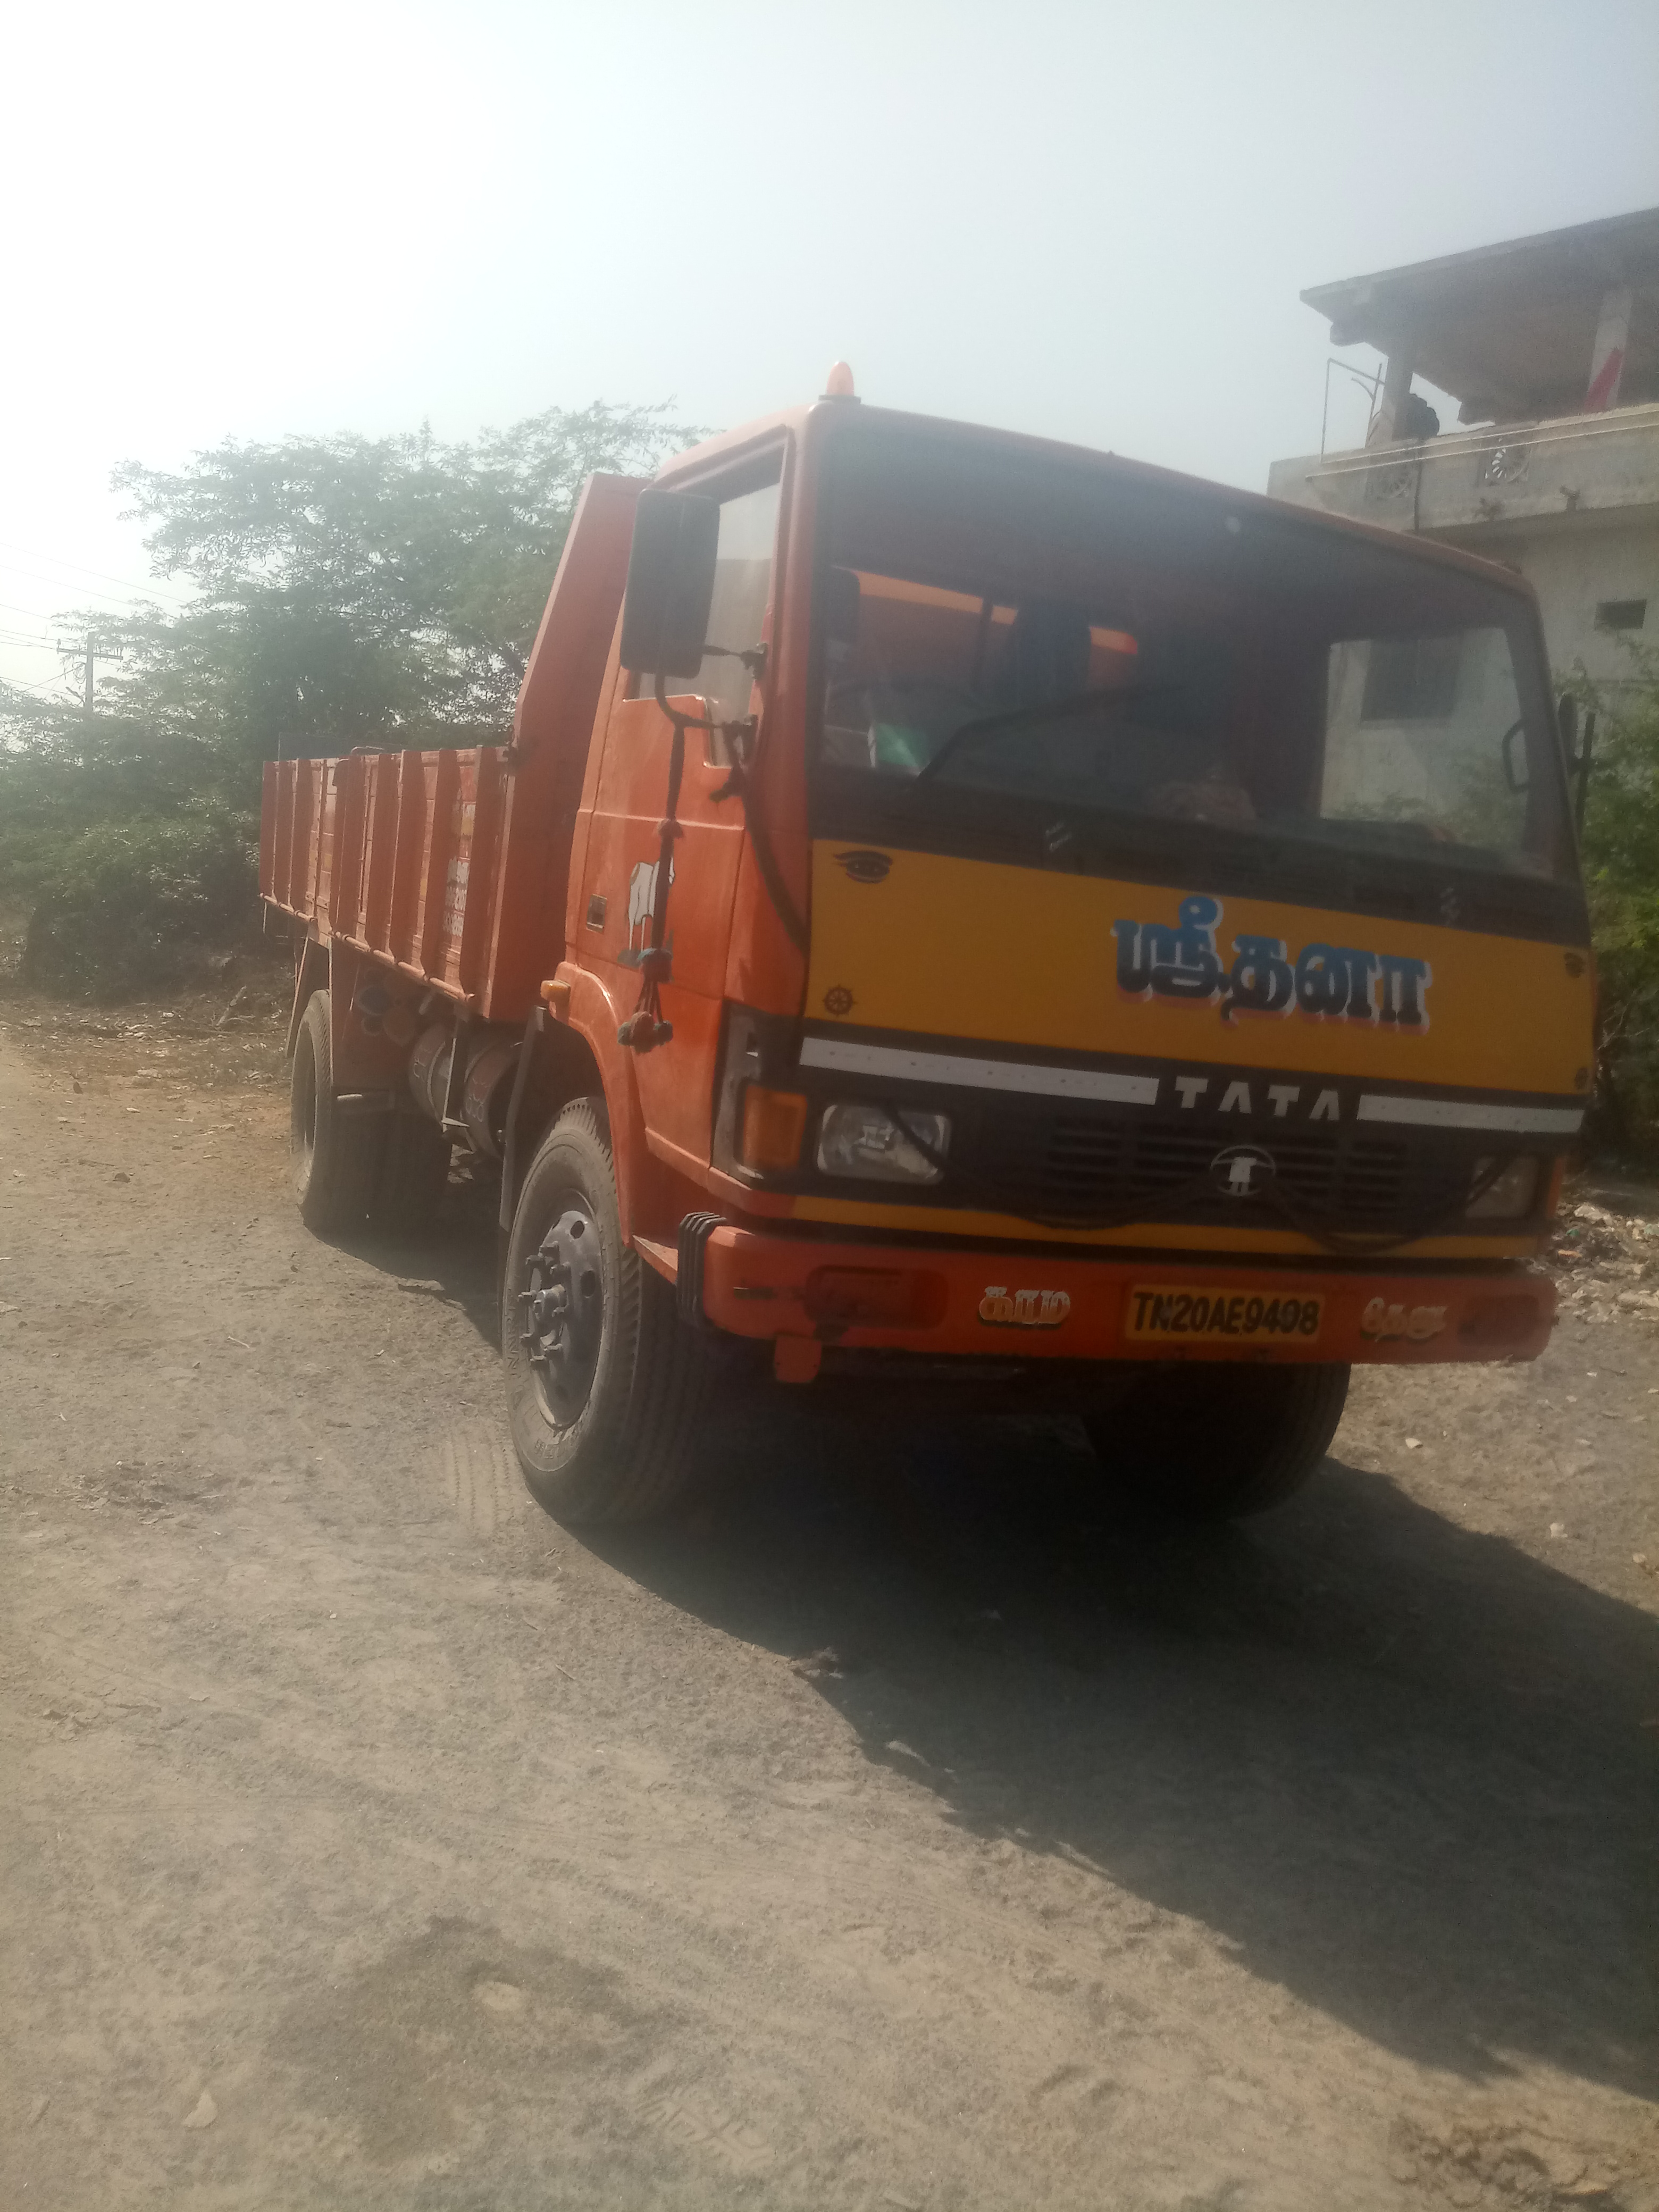truck: (251, 355, 1608, 1545)
